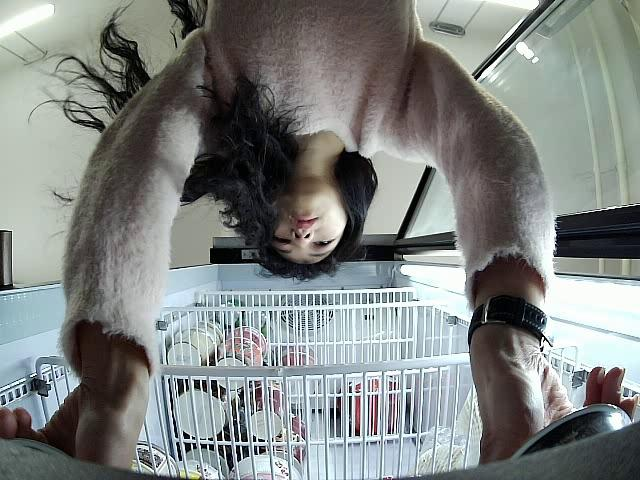00_hand: (465, 340, 640, 466), (1, 369, 153, 474)
